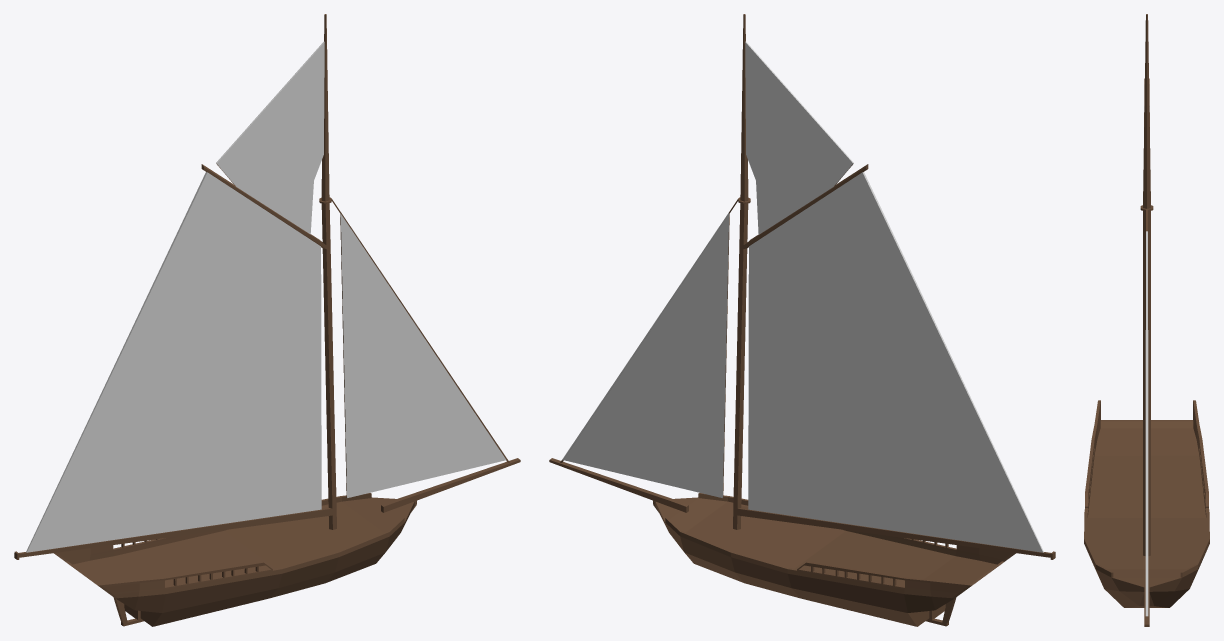
The model's file is sloop.glb.
3 views of the same model, side by side, from view 1: azimuth 30°, elevation 25°; view 2: azimuth 150°, elevation 25°; view 3: azimuth 270°, elevation 25° (orthographic). The views are drawn at different scales.
Parts seen in each view (by area): view 1: Cube; view 2: Cube; view 3: Cube.
Boxes of the visible parts, x1=… form: Cube: x1=14, y1=14, x2=520, y2=626; Cube: x1=549, y1=14, x2=1055, y2=626; Cube: x1=1084, y1=14, x2=1209, y2=626.
Bounding box in the file's own units: 8.17 × 8.71 × 1.7.
